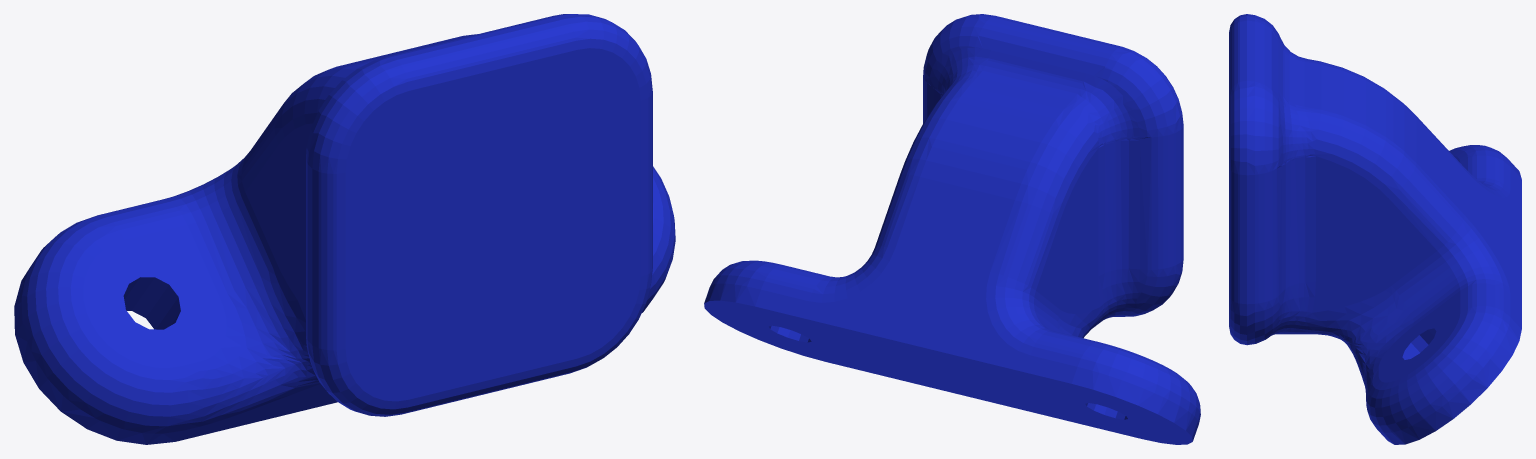
Rendered from TipOverStopColor.dae.
The picture shows the model from 3 angles, left to right: view 1: azimuth 30°, elevation 25°; view 2: azimuth 150°, elevation 25°; view 3: azimuth 270°, elevation 25°; orthographic projection. The views are drawn at different scales.
Parts seen in each view (by area): view 1: TipOverStop; view 2: TipOverStop; view 3: TipOverStop.
Part boxes in pixels (x1=…): TipOverStop: x1=14, y1=14, x2=675, y2=444; TipOverStop: x1=704, y1=14, x2=1200, y2=444; TipOverStop: x1=1229, y1=14, x2=1521, y2=444.
Size of the model in its own units: 0.036 by 0.0197 by 0.0229.
